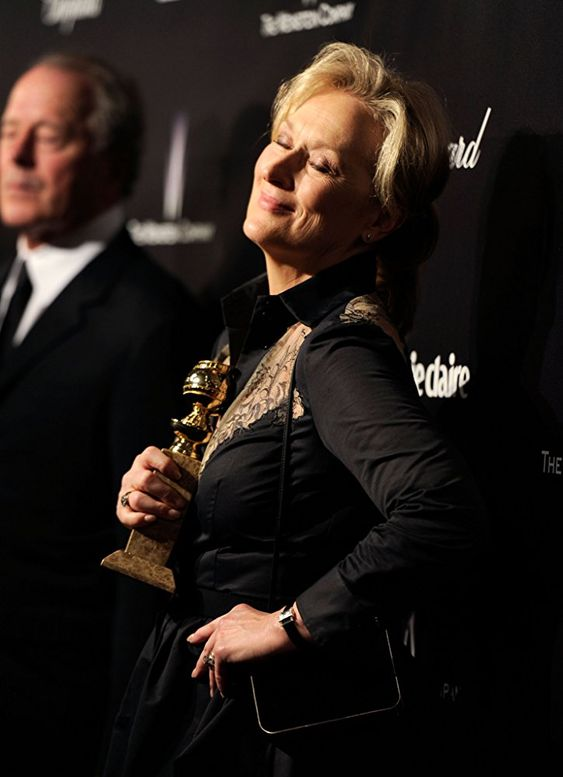hand: (123, 445, 185, 525)
